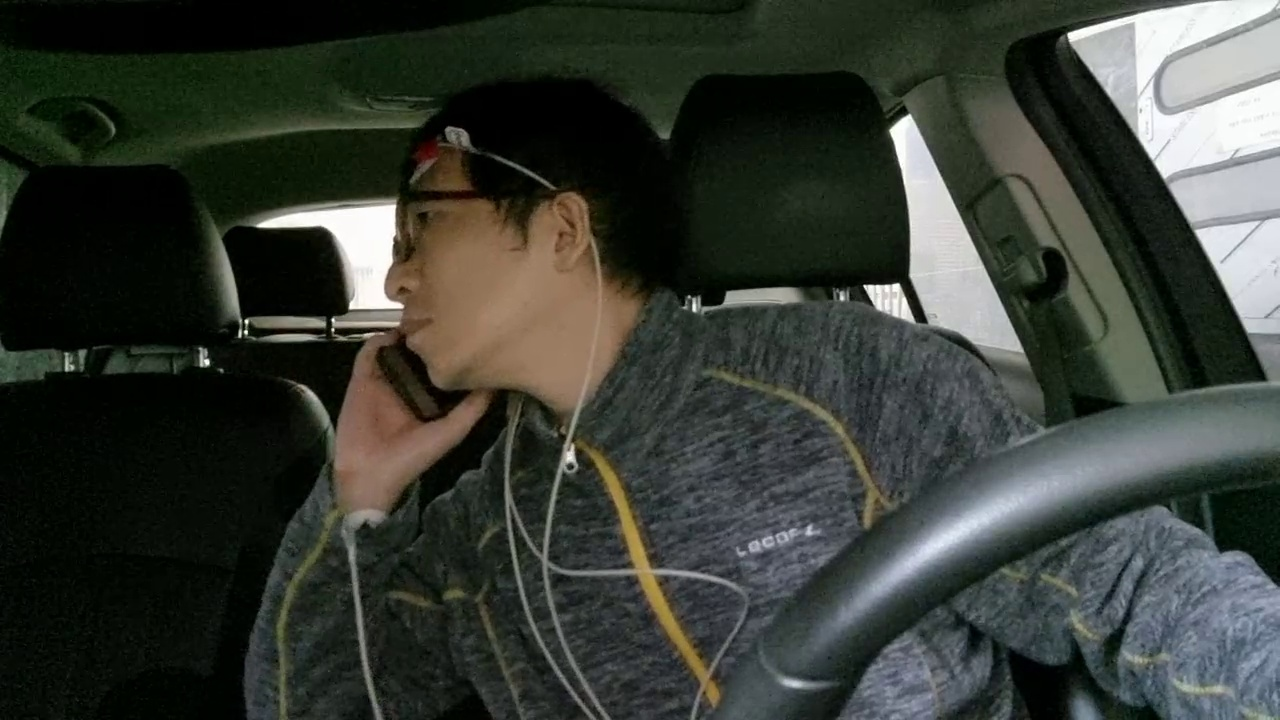phone: (352, 297, 497, 449)
